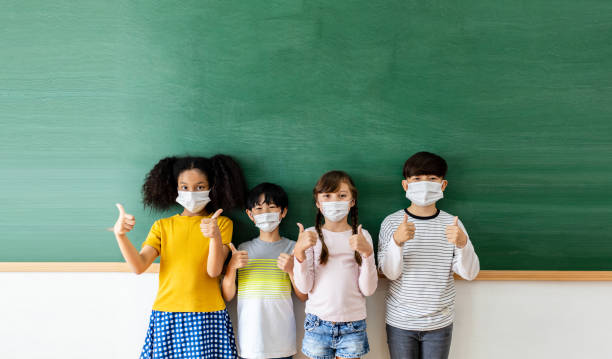with mask: (236, 175, 297, 241), (302, 169, 362, 228), (162, 159, 221, 218), (398, 150, 456, 208)
